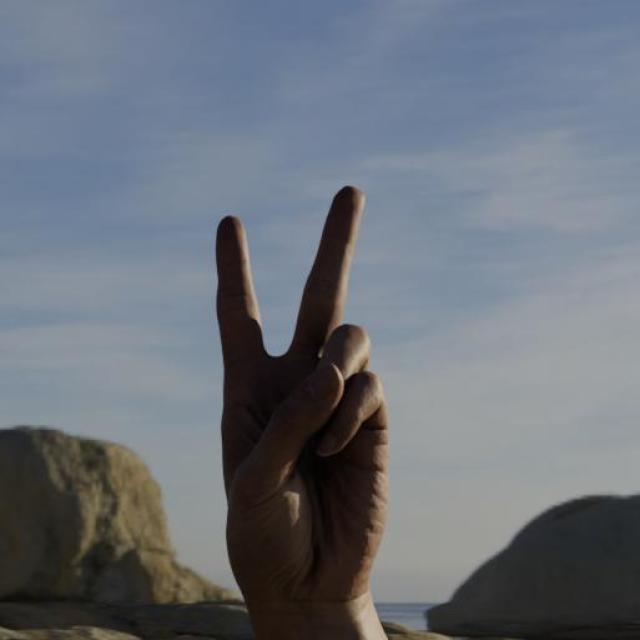V: (182, 155, 431, 640)
